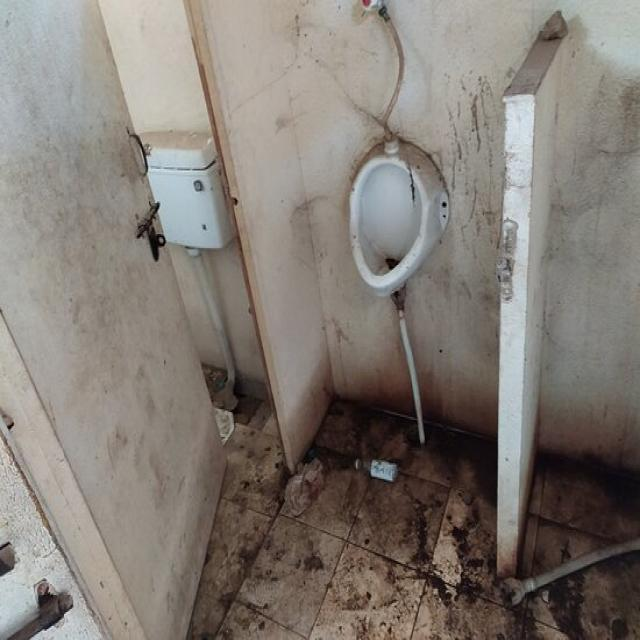dirty_floor: (1, 0, 638, 638), (188, 0, 569, 474), (186, 366, 638, 638)
